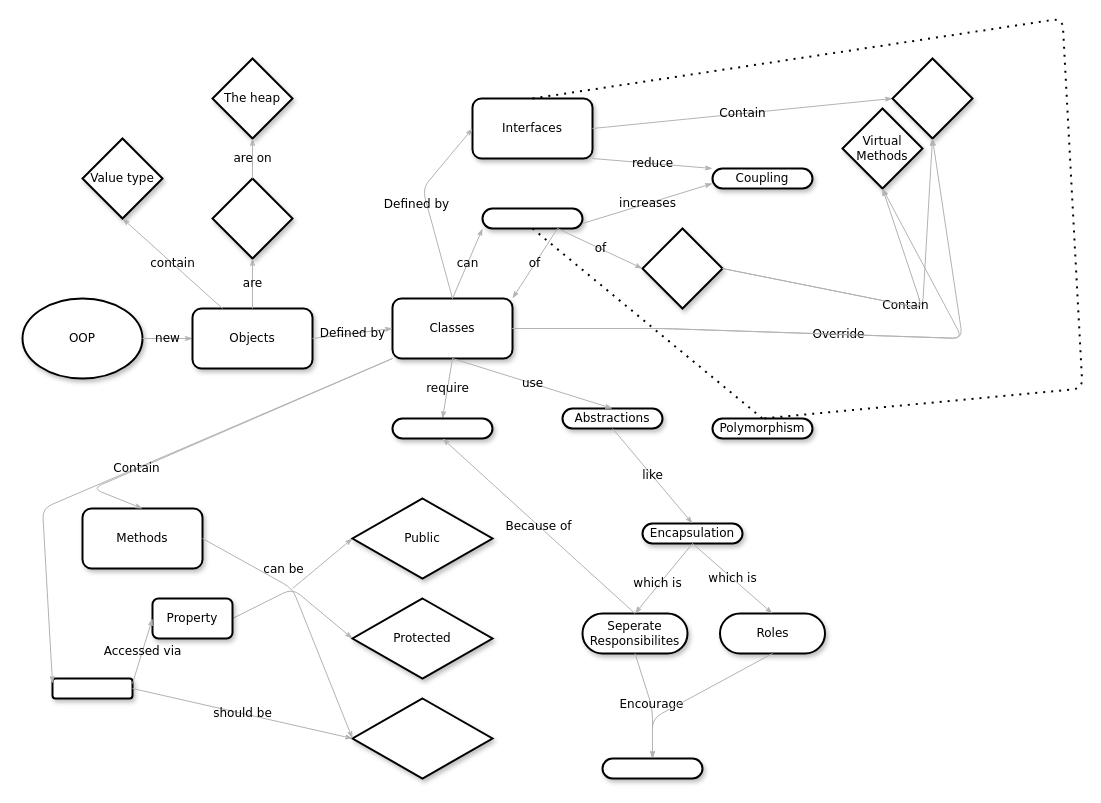
Some shapes in this 1101 by 803 pixel diagram are drawn without their labels. The shapes that lost their labels are listed below. From the top down, each one's centre as x and y in pixels, then its label:
[933,99]: Abstract Methods
[253,219]: Reference types
[533,219]: Inheritance
[683,269]: Abstract Classes
[443,429]: Collaboration
[93,689]: Fields
[423,739]: Private
[653,769]: Cohesion
